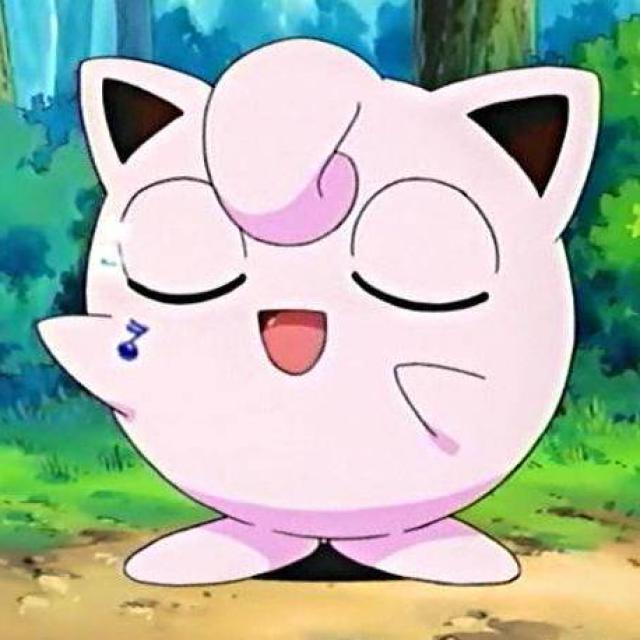Jigglypuff: (42, 22, 610, 599)
